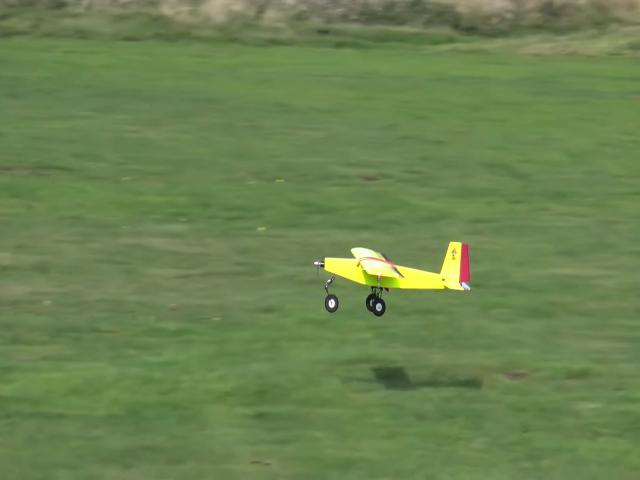plane: (313, 242, 472, 319)
